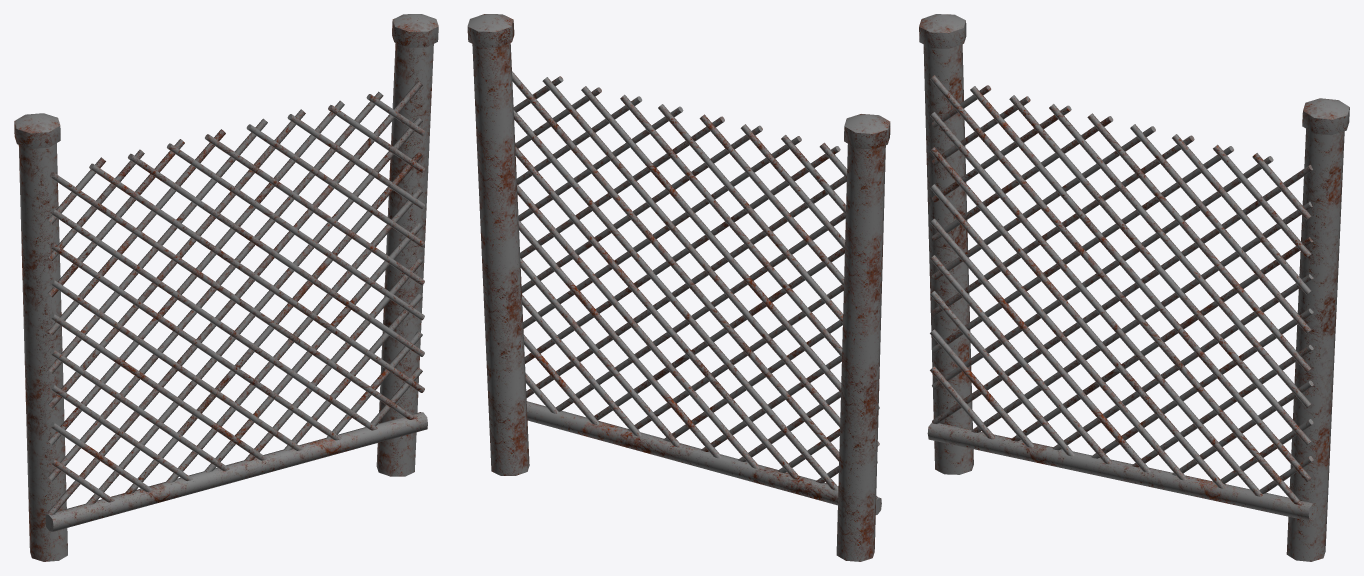
Rendered from LinkFence.fbx.
The picture shows the model from 3 angles, left to right: view 1: azimuth 30°, elevation 25°; view 2: azimuth 150°, elevation 25°; view 3: azimuth 330°, elevation 25°; orthographic projection.
Visible parts, largest first — view 1: pCylinder3; view 2: pCylinder3; view 3: pCylinder3.
Boxes of the visible parts, x1,y1,x2,y2 form: pCylinder3: (14, 14, 438, 561); pCylinder3: (467, 14, 890, 561); pCylinder3: (919, 14, 1349, 561).
Size of the model in its own units: 1.5 by 1.54 by 0.1692.
